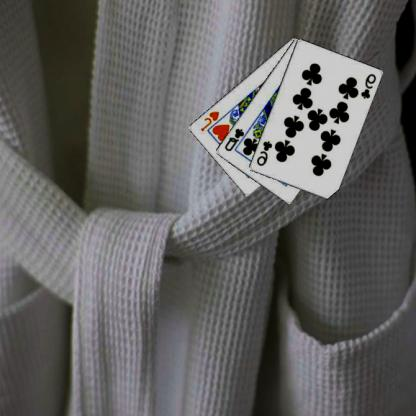9C: (256, 138, 275, 167), (360, 71, 378, 100)
JH: (199, 109, 222, 133)
QC: (224, 126, 247, 153)
